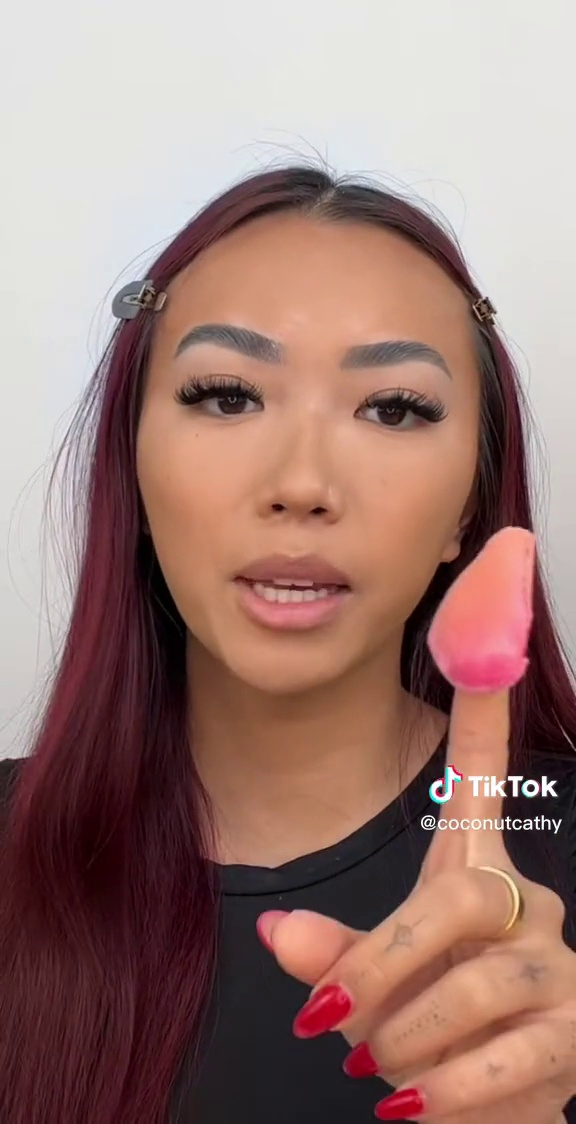train' :'yolo_data/train/images',: (425, 520, 568, 700)
